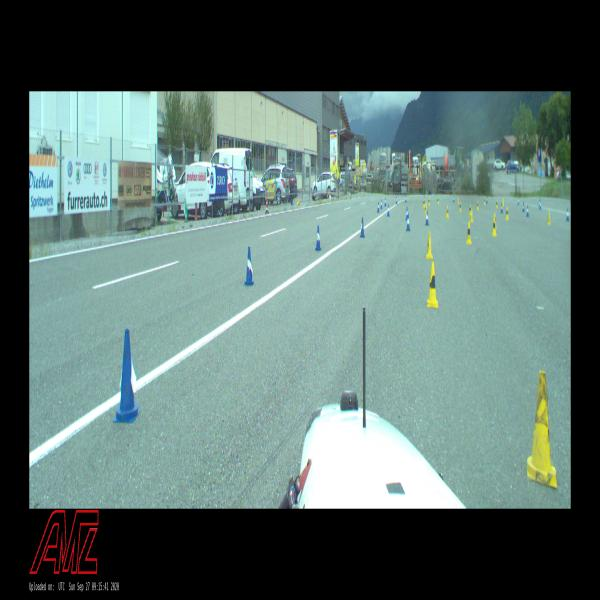blue_cone: (115, 331, 140, 424), (245, 248, 253, 285), (360, 218, 365, 237), (316, 227, 320, 249), (406, 215, 410, 231), (425, 209, 429, 225), (387, 204, 390, 216), (566, 209, 569, 220), (377, 202, 380, 212), (380, 200, 383, 209), (406, 207, 408, 220), (526, 206, 528, 216), (522, 202, 524, 212), (539, 201, 541, 209), (500, 204, 502, 212), (518, 197, 519, 205), (396, 196, 397, 204), (405, 194, 406, 202), (385, 198, 386, 205)
yellow_cone: (527, 372, 556, 485), (427, 263, 437, 307), (426, 232, 433, 258), (466, 222, 471, 244), (492, 218, 496, 236), (493, 213, 497, 228), (446, 205, 449, 218), (470, 209, 473, 222), (424, 201, 427, 214), (548, 211, 550, 224), (506, 207, 508, 219), (459, 201, 461, 211), (423, 198, 425, 207), (428, 197, 430, 205), (476, 201, 478, 209), (437, 197, 439, 203), (470, 203, 471, 214), (484, 196, 485, 205)
